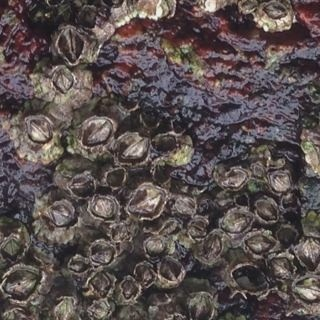Barnacle: (1, 268, 40, 304), (80, 114, 114, 145), (132, 186, 165, 217), (118, 136, 149, 165), (91, 193, 119, 223), (57, 31, 81, 62), (47, 201, 73, 229), (26, 118, 52, 144), (268, 256, 295, 281), (296, 274, 319, 303), (263, 0, 291, 23), (223, 211, 249, 235), (189, 293, 213, 319), (297, 240, 319, 268), (267, 170, 291, 195), (89, 243, 115, 266), (223, 166, 246, 191), (247, 232, 273, 254), (91, 270, 113, 296), (202, 235, 222, 263), (68, 175, 94, 196), (52, 68, 71, 96), (255, 198, 278, 221), (159, 260, 180, 282), (106, 168, 125, 192), (135, 262, 154, 285), (143, 236, 162, 257), (109, 223, 128, 243), (0, 238, 19, 258), (56, 299, 75, 319), (80, 8, 98, 29), (187, 218, 206, 237), (120, 279, 138, 299), (69, 256, 90, 273), (89, 303, 110, 319), (238, 0, 257, 13), (67, 0, 83, 11)
